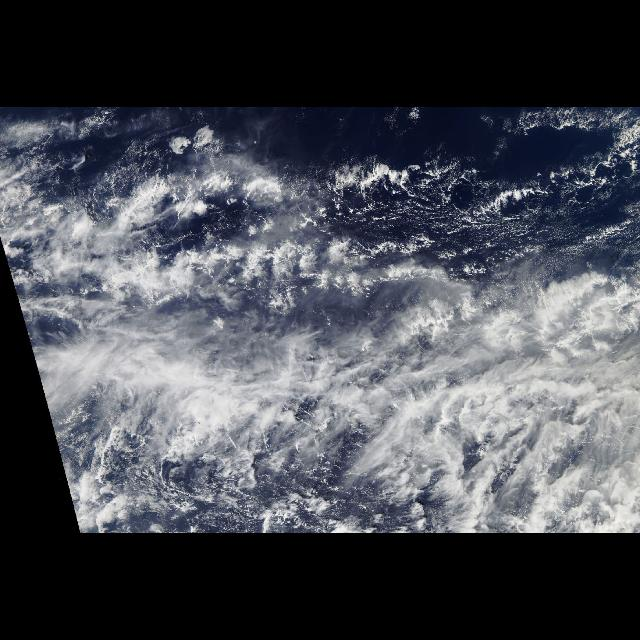Gravel: (320, 149, 640, 261)
Sugar: (380, 180, 640, 294)
